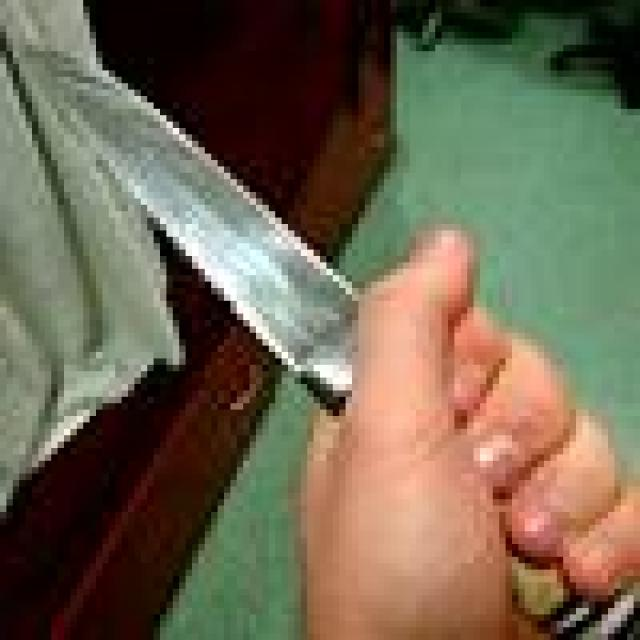knife: (25, 53, 355, 407)
